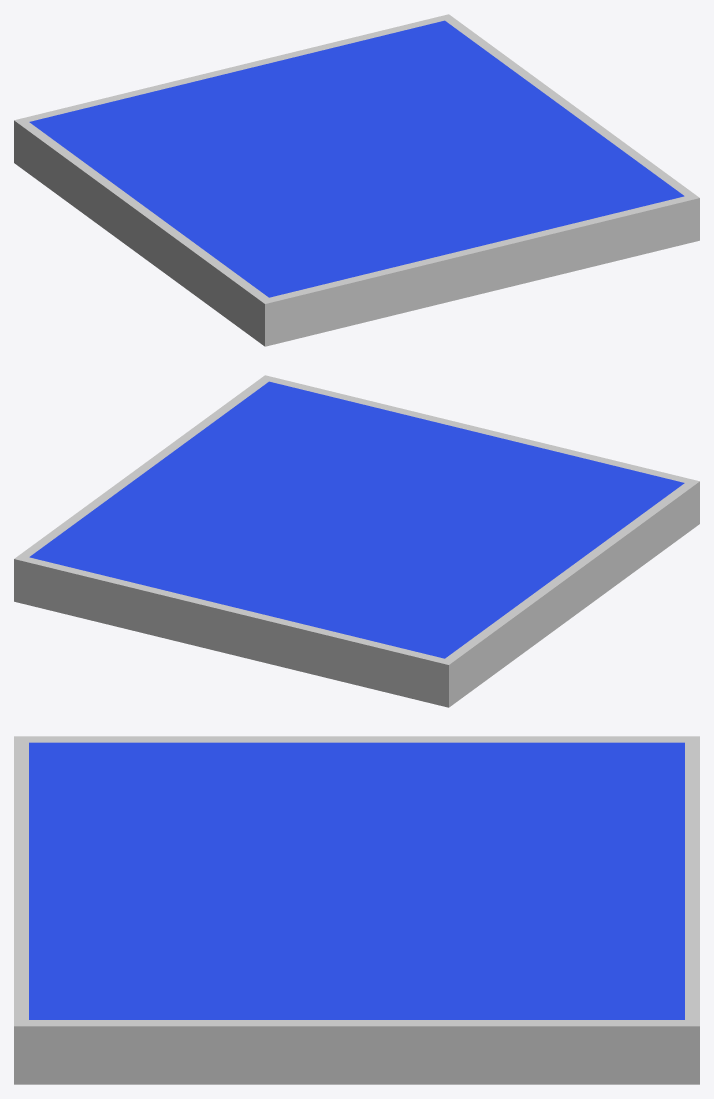
Rendered from squad_plane.FBX.
The picture shows the model from 3 angles, top to bottom: view 1: azimuth 30°, elevation 25°; view 2: azimuth 150°, elevation 25°; view 3: azimuth 270°, elevation 25°; orthographic projection. The views are drawn at different scales.
Parts seen in each view (by area): view 1: Object6479, Object6478; view 2: Object6479, Object6478; view 3: Object6479, Object6478.
Part boxes in pixels (x1,y1,x2,y2): Object6479: [29, 20, 684, 297]; Object6478: [14, 14, 699, 346]; Object6479: [29, 381, 684, 658]; Object6478: [14, 375, 699, 707]; Object6479: [29, 742, 684, 1019]; Object6478: [14, 736, 699, 1084].
Size of the model in its own units: 213 by 213 by 20.
